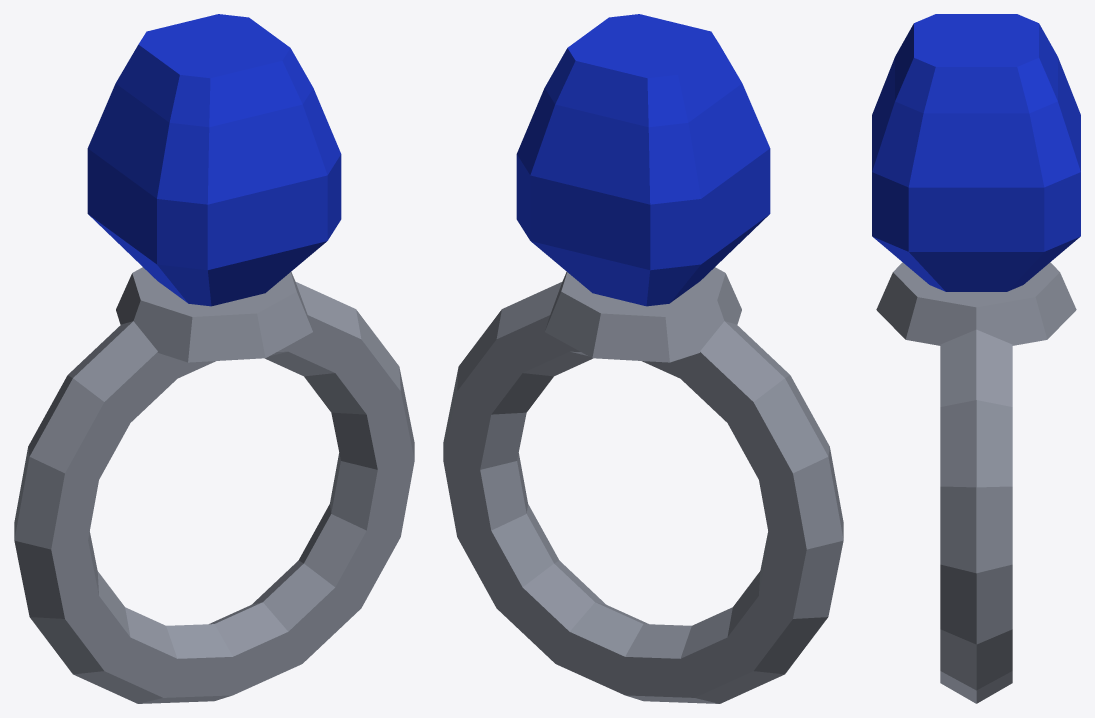
Rendered from sapphire_ring.obj.
The picture shows the model from 3 angles, left to right: view 1: azimuth 30°, elevation 25°; view 2: azimuth 150°, elevation 25°; view 3: azimuth 270°, elevation 25°; orthographic projection.
Parts seen in each view (by area): view 1: A_Band.001_sapphire_ring_metal, C_Stone.001_sapphire_ring_stone, B_Collar.001_sapphire_ring_metal; view 2: A_Band.001_sapphire_ring_metal, C_Stone.001_sapphire_ring_stone, B_Collar.001_sapphire_ring_metal; view 3: C_Stone.001_sapphire_ring_stone, A_Band.001_sapphire_ring_metal, B_Collar.001_sapphire_ring_metal.
Part boxes in pixels (x1,y1,x2,y2): A_Band.001_sapphire_ring_metal: [14, 282, 414, 703]; C_Stone.001_sapphire_ring_stone: [87, 14, 341, 306]; B_Collar.001_sapphire_ring_metal: [116, 267, 312, 362]; A_Band.001_sapphire_ring_metal: [443, 282, 843, 703]; C_Stone.001_sapphire_ring_stone: [516, 14, 770, 306]; B_Collar.001_sapphire_ring_metal: [545, 267, 741, 362]; C_Stone.001_sapphire_ring_stone: [872, 14, 1080, 291]; A_Band.001_sapphire_ring_metal: [940, 329, 1012, 703]; B_Collar.001_sapphire_ring_metal: [876, 262, 1076, 345].
Bounding box in the file's own units: 1.52 × 2.38 × 0.7.
